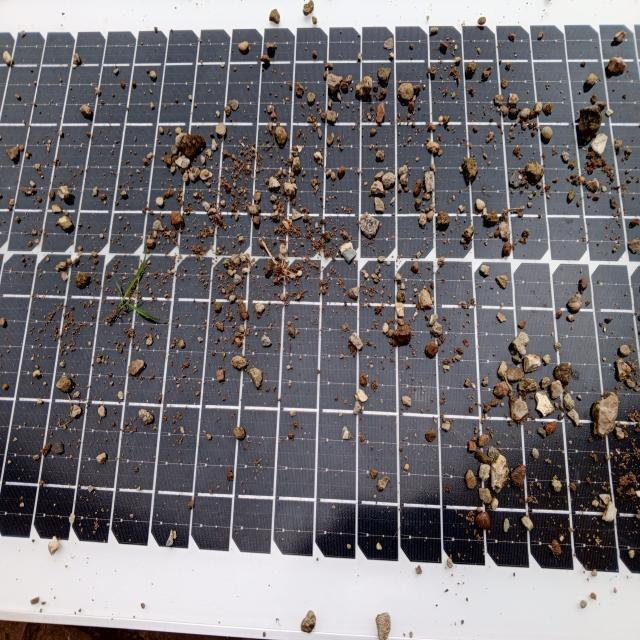Surface Contaminant: (1, 7, 639, 621)
